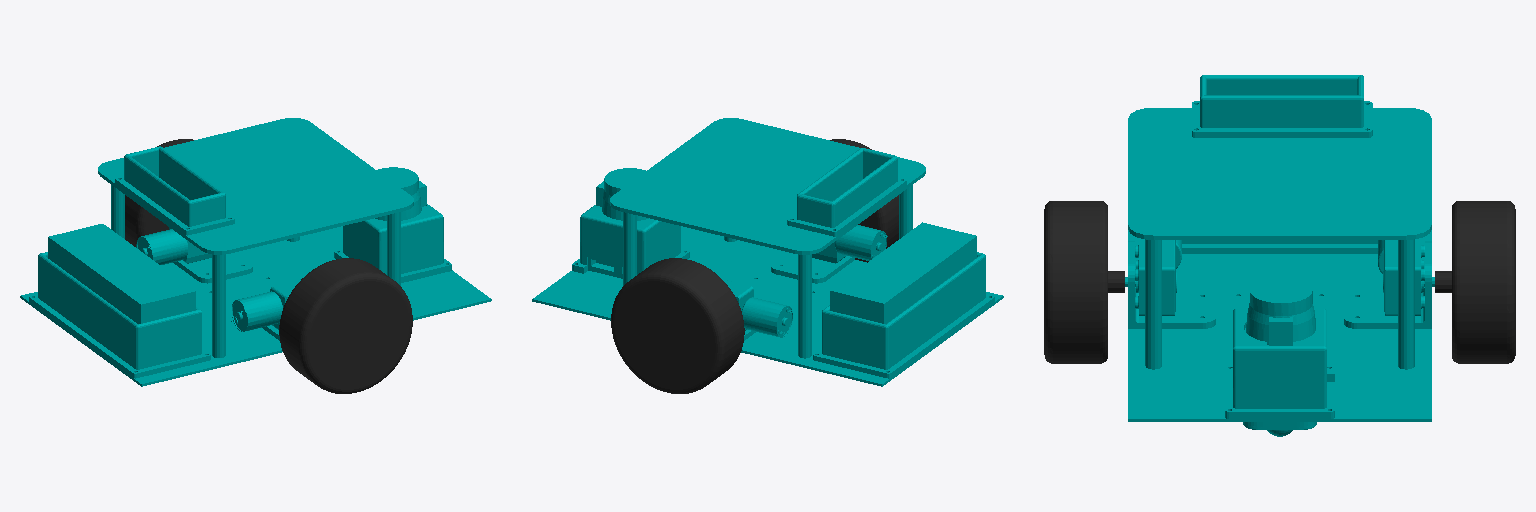
URDF robot description (V6):
<?xml version="1.0" encoding="utf-8"?>
<!-- This URDF was automatically created by SolidWorks to URDF Exporter! Originally created by [author] ([email redacted]) 
     Commit Version: 1.6.0-4-g7f85cfe  Build Version: 1.6.7995.38578
     For more information, please see http://wiki.ros.org/sw_urdf_exporter -->
<robot
  name="V6">
  <link
    name="base_link">
    <inertial>
      <origin
        xyz="-0.030827 -0.00030185 0.031063"
        rpy="0 0 0" />
      <mass
        value="0.9951" />
      <inertia
        ixx="0.001566"
        ixy="5.223E-08"
        ixz="-5.6055E-07"
        iyy="0.0014474"
        iyz="-1.8035E-06"
        izz="0.0026424" />
    </inertial>
    <visual>
      <origin
        xyz="0 0 0"
        rpy="0 0 0" />
      <geometry>
        <mesh
          filename="package://V6/meshes/base_link.STL" />
      </geometry>
      <material
        name="">
        <color
          rgba="0 0.69804 0.69804 1" />
      </material>
    </visual>
    <collision>
      <origin
        xyz="0 0 0"
        rpy="0 0 0" />
      <geometry>
        <mesh
          filename="package://V6/meshes/base_link.STL" />
      </geometry>
    </collision>
  </link>
  <link
    name="RE">
    <inertial>
      <origin
        xyz="1.0408E-17 -0.028826 2.3539E-07"
        rpy="0 0 0" />
      <mass
        value="0.27834" />
      <inertia
        ixx="0.00019487"
        ixy="7.2568E-21"
        ixz="-6.7763E-21"
        iyy="0.00032312"
        iyz="-1.1826E-09"
        izz="0.00019487" />
    </inertial>
    <visual>
      <origin
        xyz="0 0 0"
        rpy="0 0 0" />
      <geometry>
        <mesh
          filename="package://V6/meshes/RE.STL" />
      </geometry>
      <material
        name="">
        <color
          rgba="0.2 0.2 0.2 1" />
      </material>
    </visual>
    <collision>
      <origin
        xyz="0 0 0"
        rpy="0 0 0" />
      <geometry>
        <mesh
          filename="package://V6/meshes/RE.STL" />
      </geometry>
    </collision>
  </link>
  <joint
    name="RE_joint"
    type="fixed">
    <origin
      xyz="0.0074375 -0.092 0.0235"
      rpy="0 -0.99692 0" />
    <parent
      link="base_link" />
    <child
      link="RE" />
    <axis
      xyz="0 -1 0" />
  </joint>
  <link
    name="RD">
    <inertial>
      <origin
        xyz="-3.1225E-17 -0.028826 2.3539E-07"
        rpy="0 0 0" />
      <mass
        value="0.27834" />
      <inertia
        ixx="0.00019487"
        ixy="1.3653E-20"
        ixz="-2.7105E-20"
        iyy="0.00032312"
        iyz="-1.1826E-09"
        izz="0.00019487" />
    </inertial>
    <visual>
      <origin
        xyz="0 0 0"
        rpy="0 0 0" />
      <geometry>
        <mesh
          filename="package://V6/meshes/RD.STL" />
      </geometry>
      <material
        name="">
        <color
          rgba="0.2 0.2 0.2 1" />
      </material>
    </visual>
    <collision>
      <origin
        xyz="0 0 0"
        rpy="0 0 0" />
      <geometry>
        <mesh
          filename="package://V6/meshes/RD.STL" />
      </geometry>
    </collision>
  </link>
  <joint
    name="RD_joint"
    type="fixed">
    <origin
      xyz="0.0075005 0.092 0.0235"
      rpy="0 0.84537 -3.1416" />
    <parent
      link="base_link" />
    <child
      link="RD" />
    <axis
      xyz="0 1 0" />
  </joint>


    <gazebo>
        <plugin name="differential_drive_controller"
        filename="libgazebo_ros_diff_drive.so">
            <leftJoint>RE_joint</leftJoint>
            <rightJoint>RD_joint</rightJoint>
            <robotBaseFrame>base_link</robotBaseFrame>
            <wheelSeparation>0.25</wheelSeparation>
            <wheelDiameter>0.07</wheelDiameter>
            <publishWheelJointState>true</publishWheelJointState>
        </plugin>
    </gazebo>

    <gazebo>
        <plugin name="joint_state_publisher" filename="libgazebo_ros_joint_state_publisher.so">
            <jointName>RD_joint,RE_joint</jointName>
        </plugin>
    </gazebo>

</robot>


--- What the picture shows (computed from the rendered views, not written in the file) ---
Views: 3 orthographic renders of the robot side by side, from view 1: azimuth 30°, elevation 25°; view 2: azimuth 150°, elevation 25°; view 3: azimuth 270°, elevation 25°.
Robot: V6 — 3 links, 2 joints (2 fixed); root link base_link; default pose: every joint at zero.
Visible links, largest first — view 1: base_link, RE, RD; view 2: base_link, RD, RE; view 3: base_link, RD, RE.
Link boxes in pixels (x1,y1,x2,y2): base_link: (20,118,491,386); RE: (279,258,412,393); RD: (125,139,193,246); base_link: (532,118,1003,386); RD: (611,258,744,393); RE: (830,139,898,262); base_link: (1125,75,1434,436); RD: (1435,201,1515,363); RE: (1044,201,1124,363).
Size in the robot's own frame: 0.3 by 0.2798 by 0.1419 metres.
3 mesh visuals loaded from 3 distinct referenced files (3 binary STL).